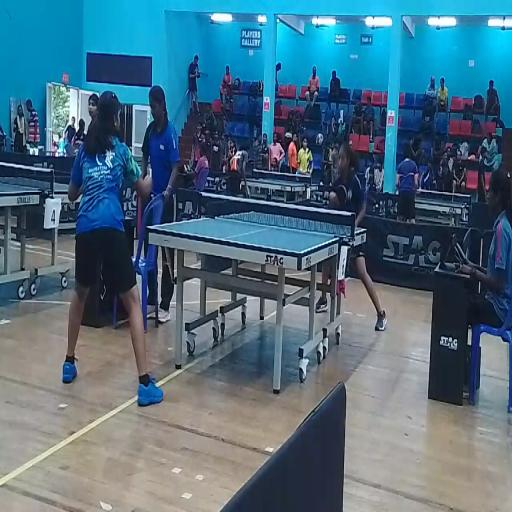ball: (329, 192, 335, 198)
